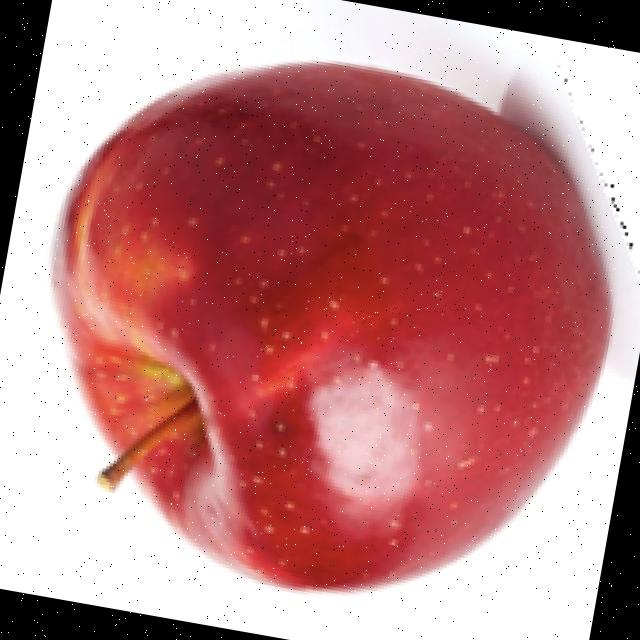apple: (43, 25, 640, 599)
